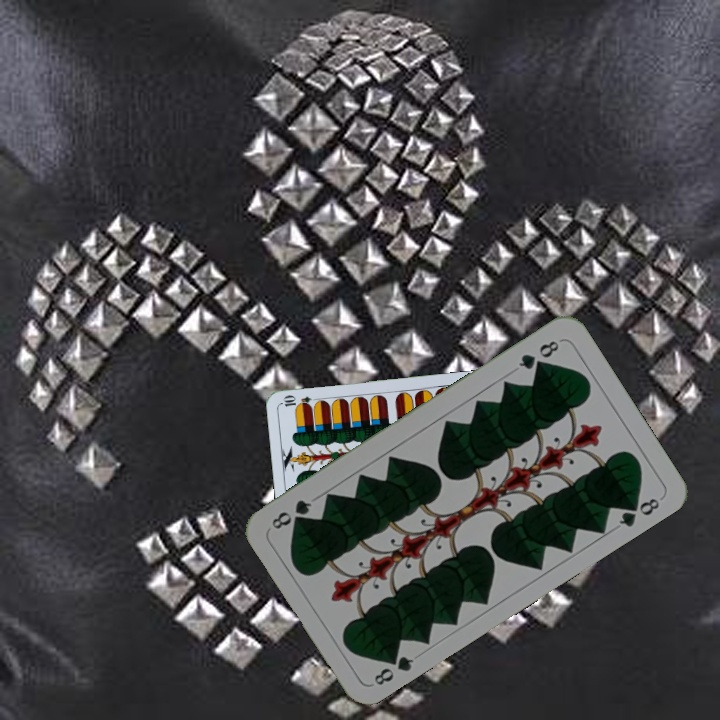G8: (370, 647, 417, 688), (514, 336, 562, 372)
